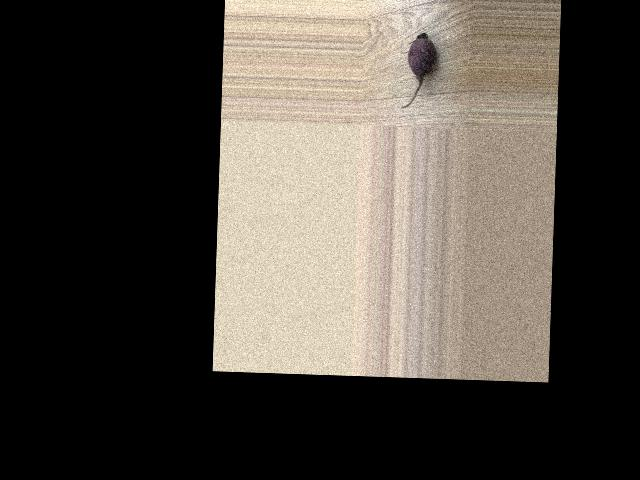beet: (399, 33, 436, 110)
